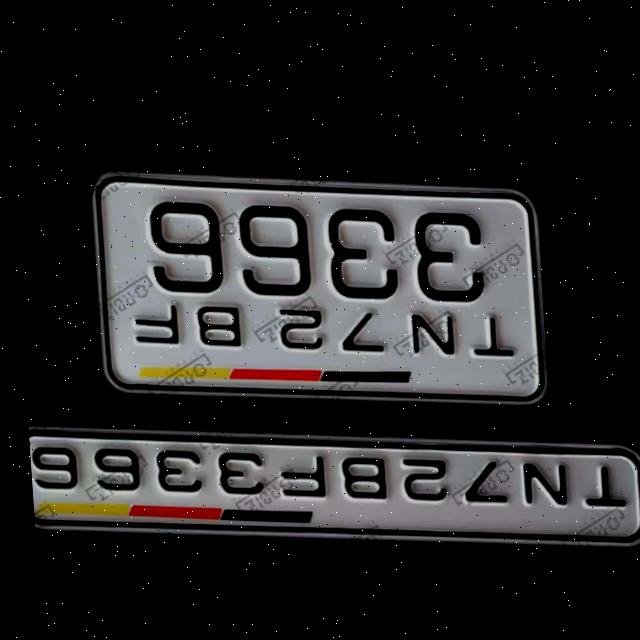plate: (80, 163, 551, 409), (22, 422, 640, 552)
